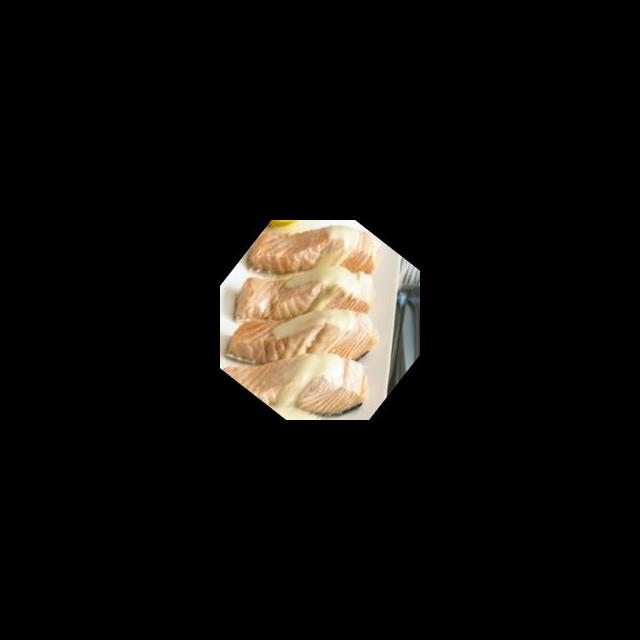ca hoi: (220, 220, 391, 387), (220, 254, 387, 420), (220, 293, 387, 420)
ca hoi sot pho mai kem: (220, 230, 404, 419)
pho mai: (276, 273, 360, 338), (288, 310, 352, 386)
